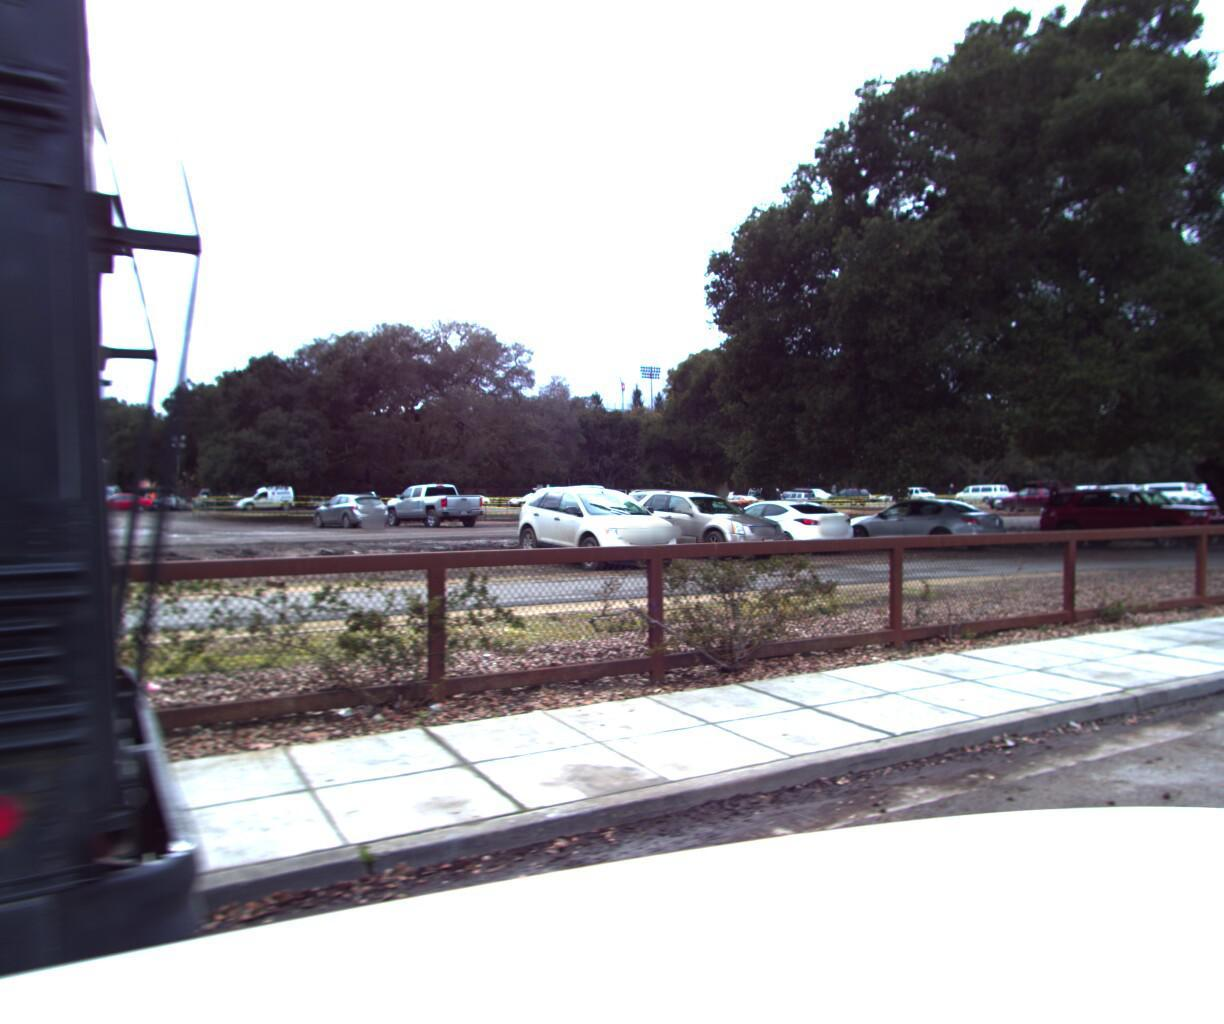car: (506, 473, 699, 567), (604, 481, 800, 562), (1031, 473, 1224, 545), (840, 494, 1017, 547), (709, 494, 866, 553)
